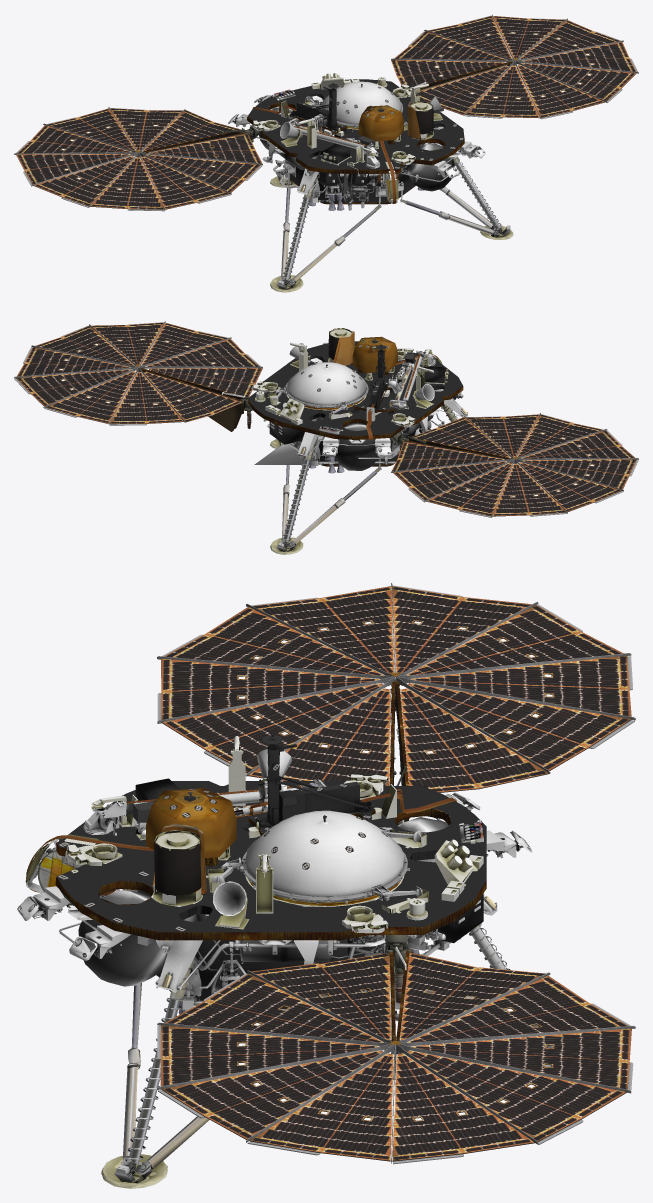
The model's file is InSight_UE5.glb.
3 views of the same model, one above another, from view 1: azimuth 30°, elevation 25°; view 2: azimuth 150°, elevation 25°; view 3: azimuth 270°, elevation 25° (orthographic). The views are drawn at different scales.
Parts seen in each view (by area): view 1: InSight_UE5; view 2: InSight_UE5; view 3: InSight_UE5.
Part boxes in pixels (x1,y1,x2,y2): InSight_UE5: (14,14,638,292); InSight_UE5: (14,321,638,554); InSight_UE5: (17,583,635,1188).
Bounding box in the file's own units: 5.6 × 1.45 × 2.53.
Materials: 17 (14 with a texture image).
